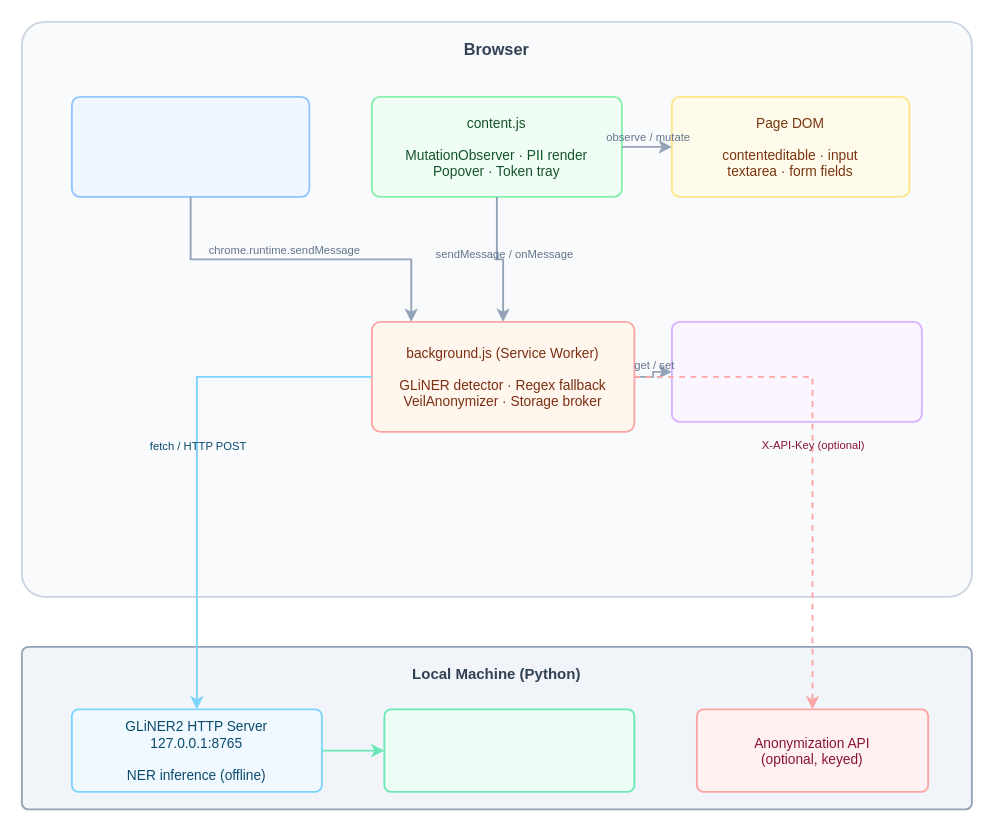
The diagram is 995 pixels wide and 833 high, and some of its shapes have lost their labels. The box of each missing label's shape, as (x1, y1, x2, y2) in pixels:
chrome.storage.local apiKey · seed · customPatterns settings · cachedRedactions: (670, 320, 922, 422)
GLiNER2 Model (ONNX / HuggingFace): (383, 708, 635, 792)
popup.html / popup.js HF Token · API Key · Diagnostics: (70, 95, 310, 197)
